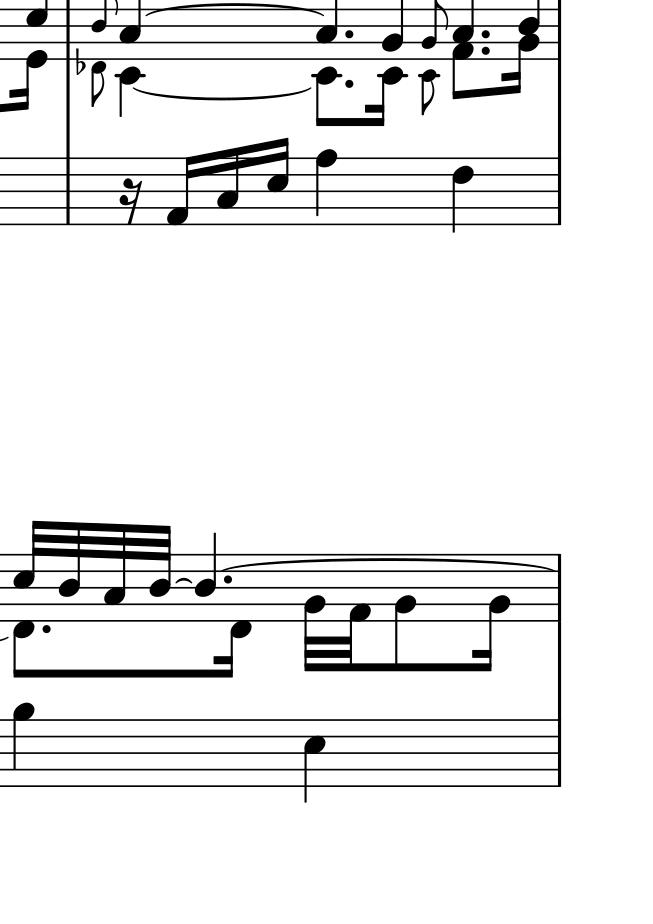16_-1: (216, 551, 254, 679)
16_1: (165, 154, 197, 226)
16_2: (476, 552, 511, 672)
16_3: (215, 146, 240, 226)
16_5: (266, 135, 291, 226)
32_1: (339, 551, 372, 673)
32_2: (301, 552, 329, 675)
32_3: (101, 522, 127, 623)
32_4: (56, 520, 83, 622), (147, 523, 173, 623)
32_5: (12, 518, 45, 622)
4_4: (193, 532, 218, 622)
4_5: (302, 718, 327, 804)
4_6: (451, 156, 474, 233)
4_8: (313, 148, 337, 226)
4_9: (11, 700, 35, 788)
8_2: (393, 554, 417, 674)
Flat: (74, 47, 85, 76)
Rests16: (118, 176, 143, 226)
Single_barline: (550, 720, 567, 785), (552, 157, 567, 226), (60, 157, 75, 225), (552, 555, 567, 621), (551, 2, 567, 61)
Slur: (221, 557, 560, 569), (132, 84, 311, 100), (143, 3, 324, 15), (175, 577, 193, 585)
dot: (341, 75, 356, 91), (37, 622, 54, 636), (340, 27, 356, 40), (221, 573, 235, 586), (479, 26, 491, 41), (479, 44, 494, 56)
